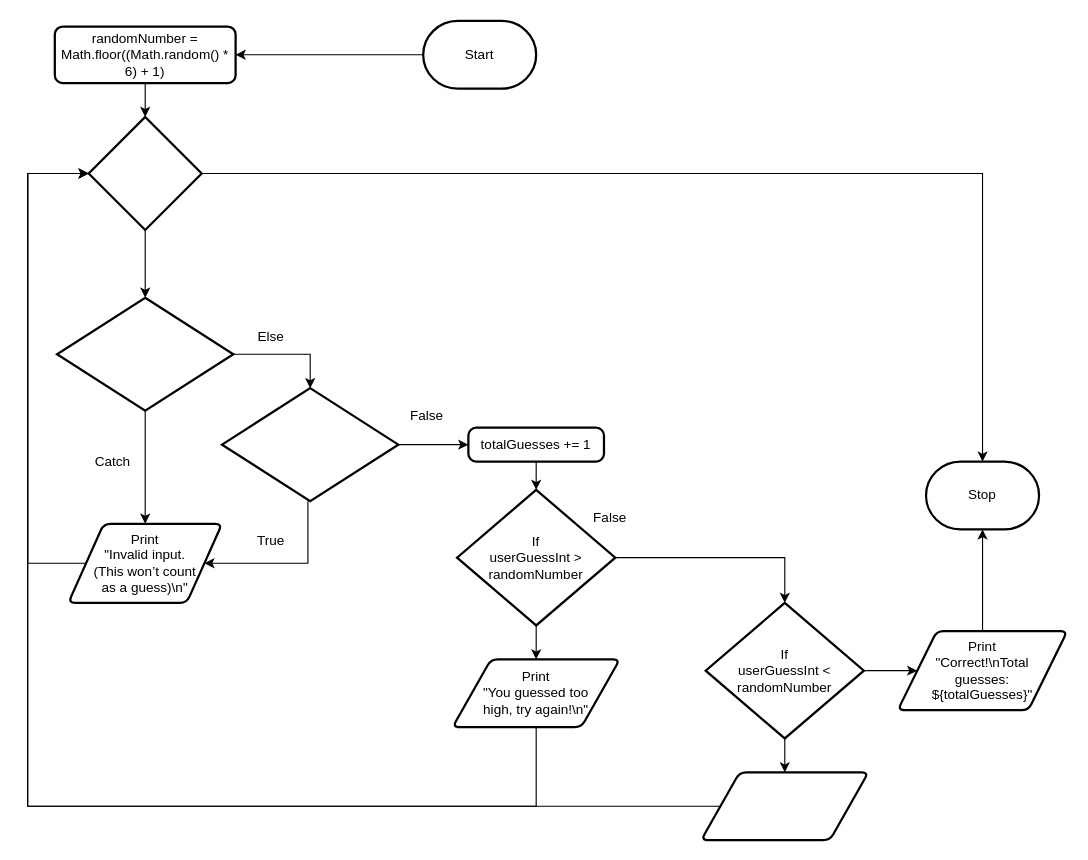
Some shapes in this 1088 by 860 pixel diagram are drawn without their labels. Each missing label, with the centre of its shape:
If (1): point 144,173
If userGuessInt < 1 || userGuessInt > 6: point 309,444
Print "You guessed too low, try again!\n": point 784,806
Try parseInt(userGuess): point 144,353
